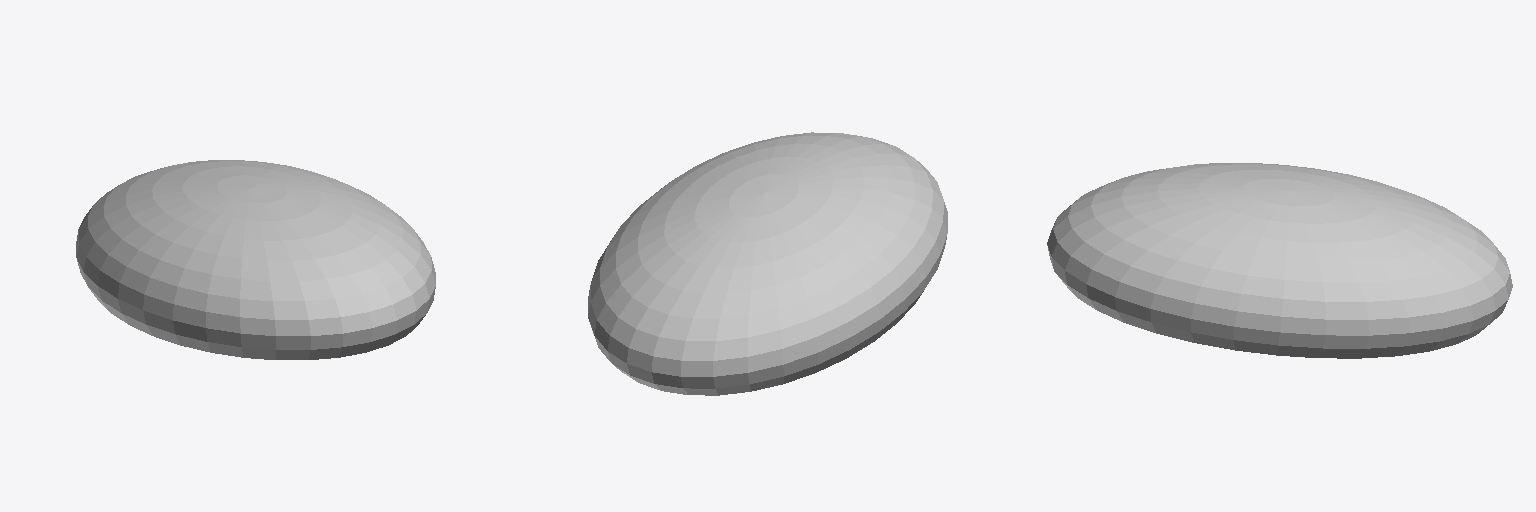
3 renders of one model, left to right at view 1: azimuth 30°, elevation 25°; view 2: azimuth 150°, elevation 25°; view 3: azimuth 270°, elevation 25°, orthographic.
Visible parts, largest first — view 1: LightPart_Sphere; view 2: LightPart_Sphere; view 3: LightPart_Sphere.
Part boxes in pixels (x1,y1,x2,y2): LightPart_Sphere: (76,160,435,359); LightPart_Sphere: (588,132,947,395); LightPart_Sphere: (1047,163,1512,358).
Size of the model in its own units: 0.6 by 0.2815 by 0.876.